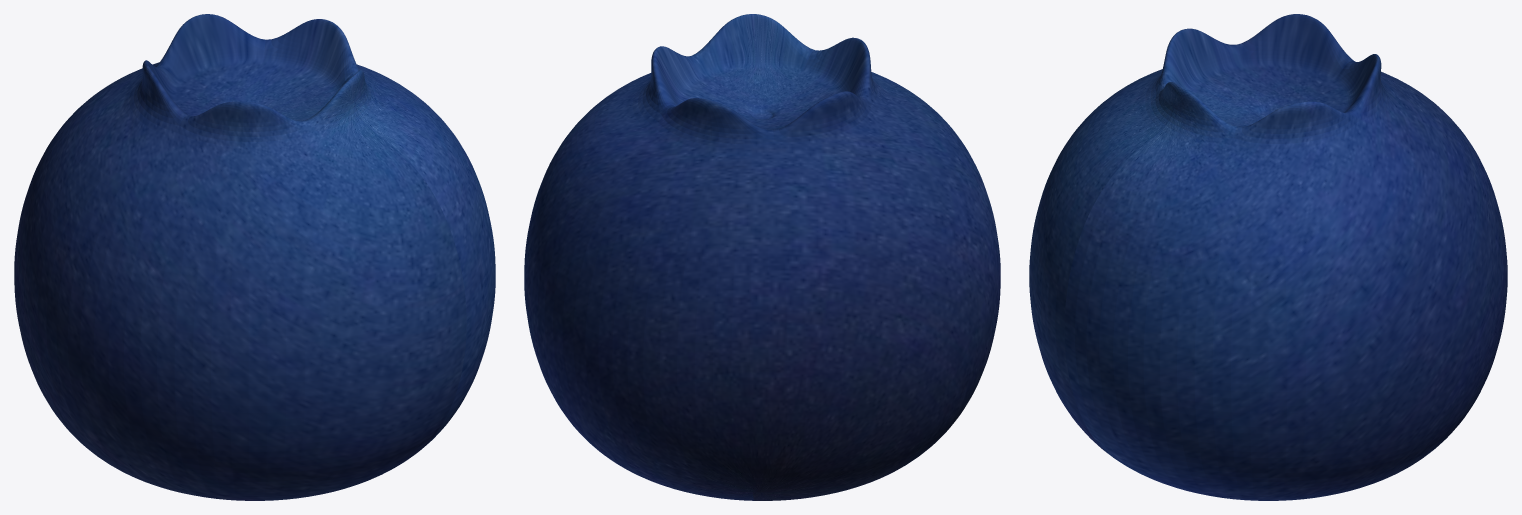
3 views of the same model, side by side, from view 1: azimuth 30°, elevation 25°; view 2: azimuth 150°, elevation 25°; view 3: azimuth 270°, elevation 25° (orthographic).
Visible parts, largest first — view 1: Sphere; view 2: Sphere; view 3: Sphere.
Part boxes in pixels (x1,y1,x2,y2): Sphere: (14,14,495,500); Sphere: (524,14,1000,500); Sphere: (1029,14,1507,500).
Bounding box in the file's own units: 1.85 × 1.68 × 1.85.
Materials: 1 (1 with a texture image).
